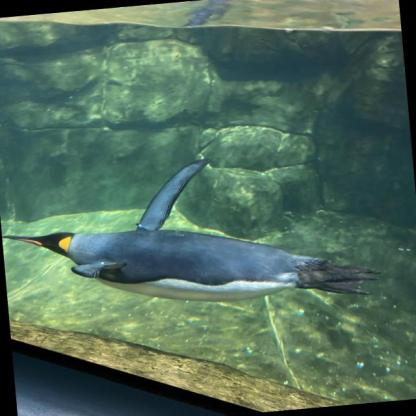penguin: (0, 144, 394, 326)
